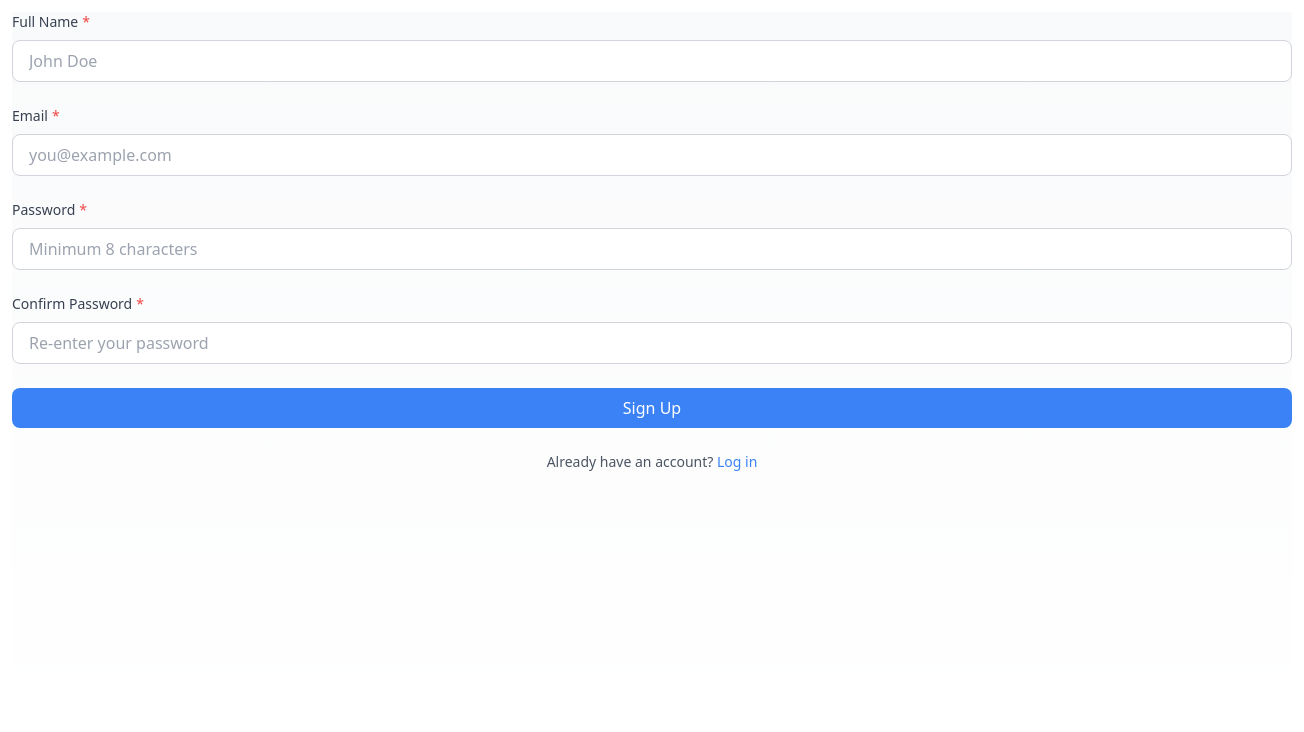
it: SignupForm › validates password confirmation matches
Type "validPassword123" into the password field labelled "Password*" at (652, 249), box [12,228,1292,270]
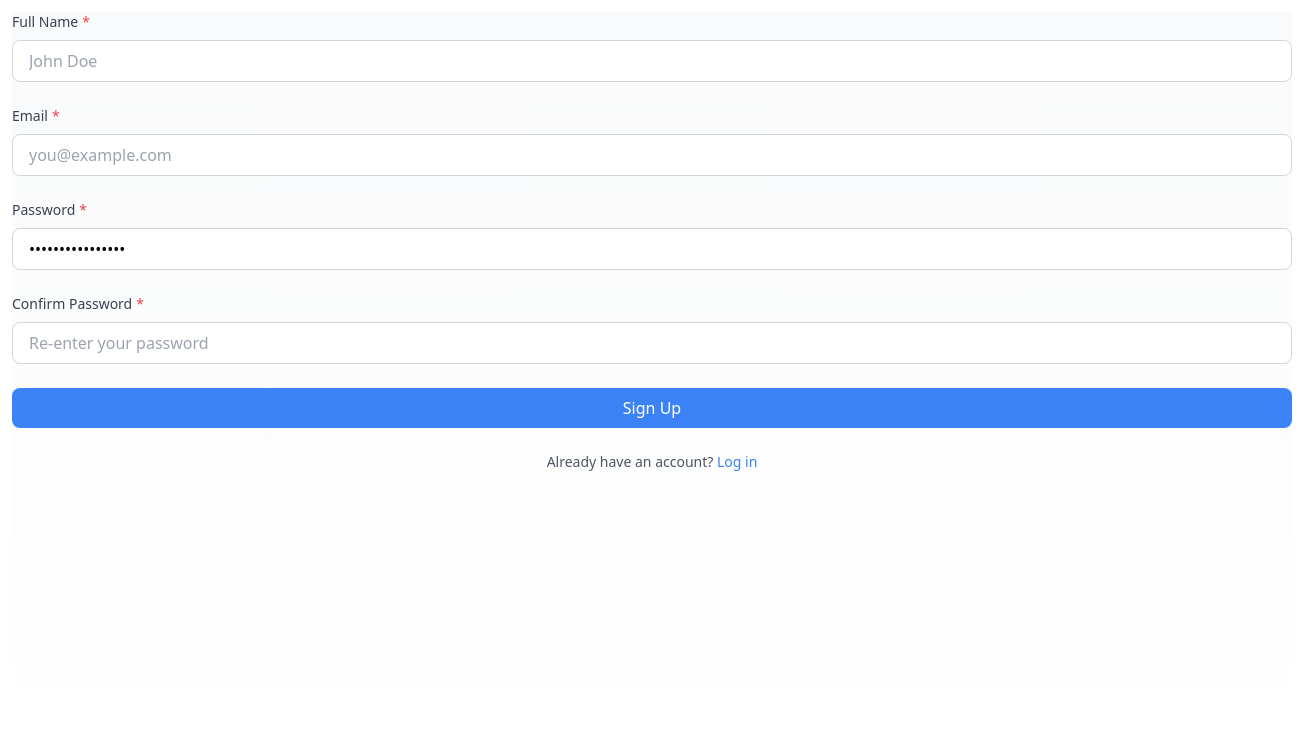
Type "differentPassword" into the password field labelled "Confirm Password*" at (652, 343), box [12,322,1292,364]
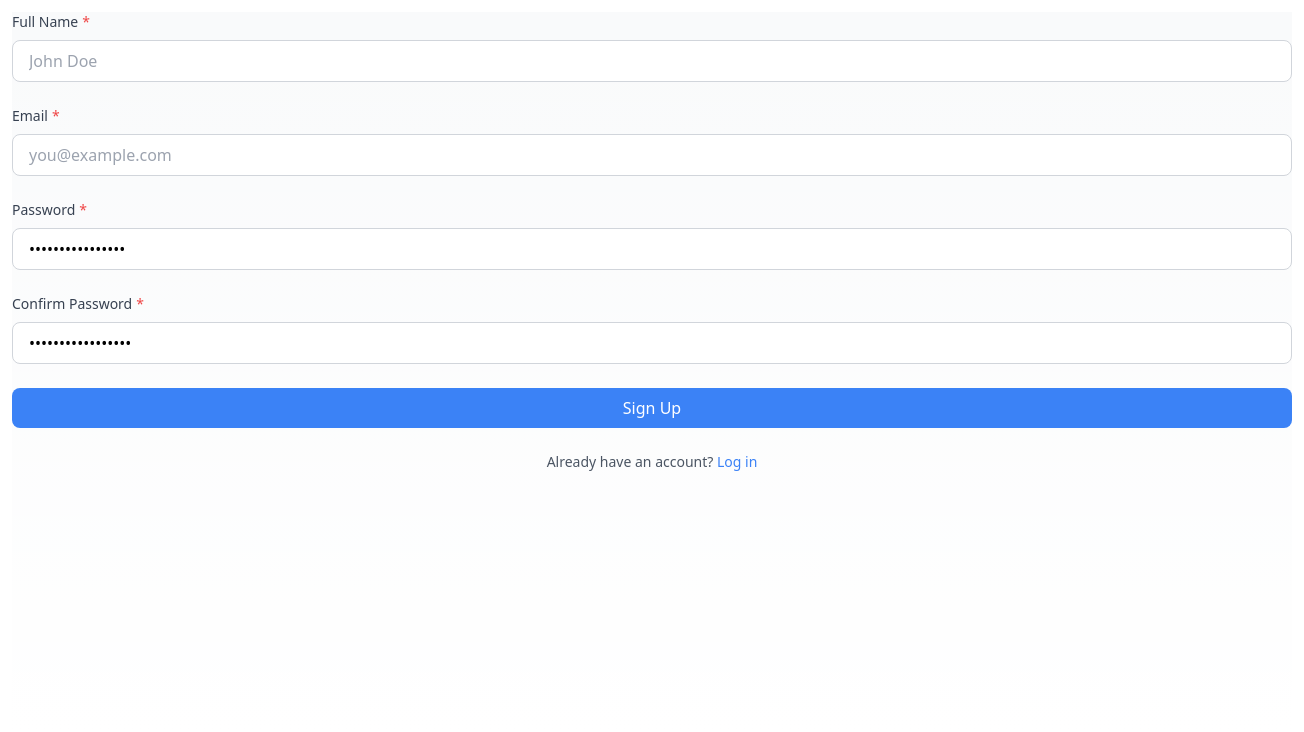
Click the button "Sign Up" at (652, 408), box [12,388,1292,428]
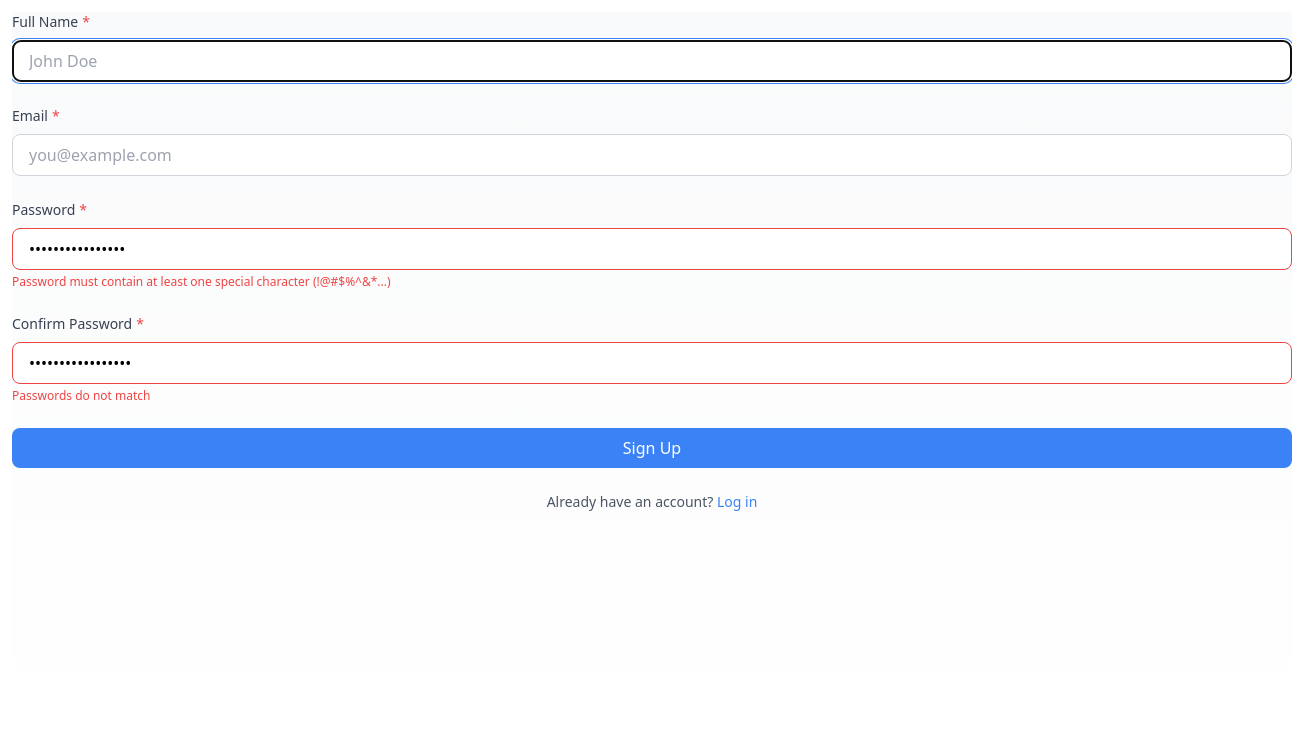
Check: the text "Passwords do not match" is shown, box [12,387,150,404]
